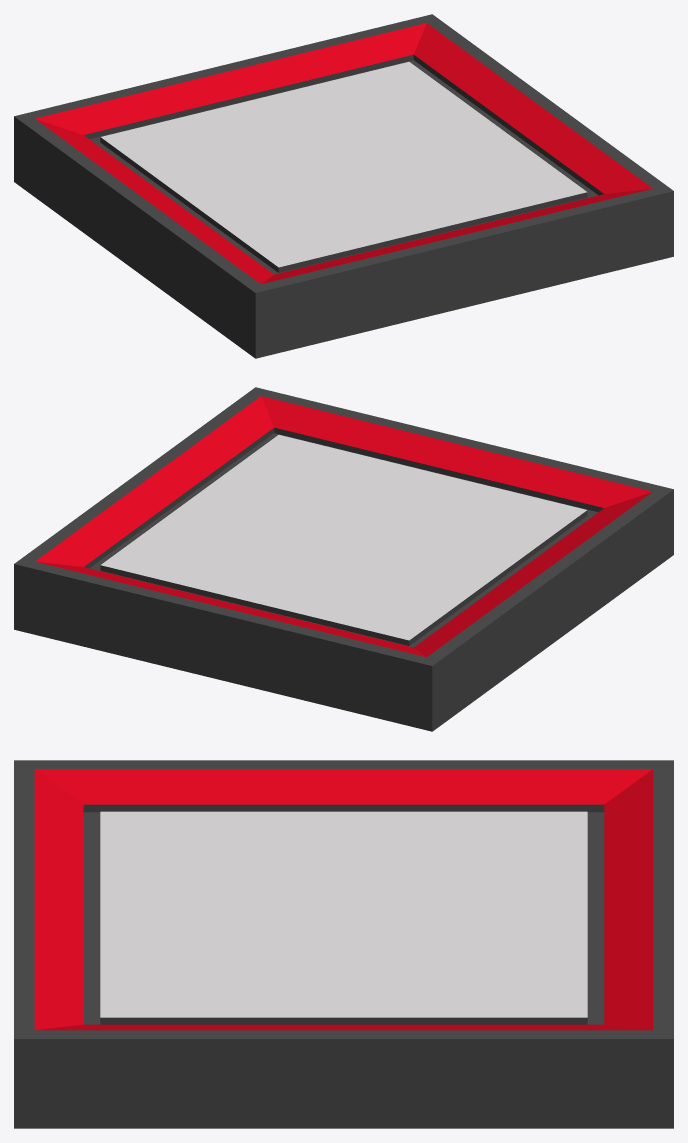
File: Tile.fbx
3 renders of one model, top to bottom at view 1: azimuth 30°, elevation 25°; view 2: azimuth 150°, elevation 25°; view 3: azimuth 270°, elevation 25°, orthographic. The views are drawn at different scales.
Parts seen in each view (by area): view 1: Cube; view 2: Cube; view 3: Cube.
Boxes of the visible parts, x1,y1,x2,y2 form: Cube: [14, 14, 673, 358]; Cube: [14, 387, 673, 731]; Cube: [14, 760, 673, 1128].
Size of the model in its own units: 100 by 15 by 100.
